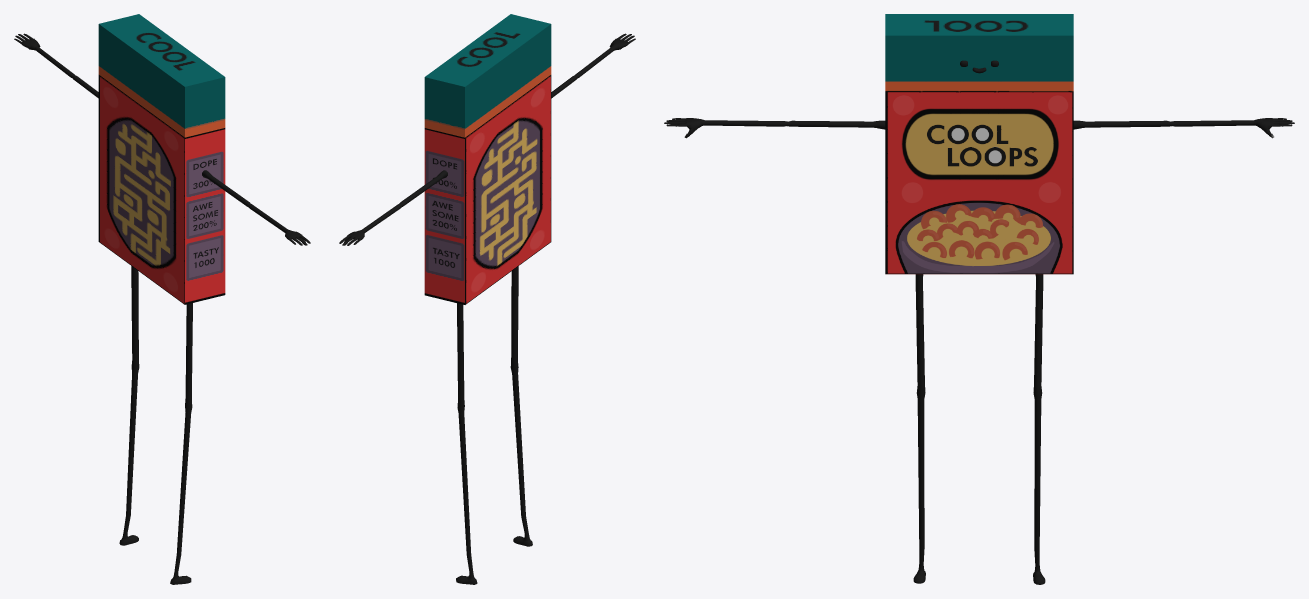
The model's file is Goldfish Bag Person.glb.
3 renders of one model, left to right at view 1: azimuth 30°, elevation 25°; view 2: azimuth 150°, elevation 25°; view 3: azimuth 270°, elevation 25°, orthographic. The views are drawn at different scales.
Visible parts, largest first — view 1: _100Avatars_106_GoldfishBagPerson; view 2: _100Avatars_106_GoldfishBagPerson; view 3: _100Avatars_106_GoldfishBagPerson.
Part boxes in pixels (bbox=[...]): _100Avatars_106_GoldfishBagPerson: bbox=[14, 14, 310, 584]; _100Avatars_106_GoldfishBagPerson: bbox=[339, 14, 635, 584]; _100Avatars_106_GoldfishBagPerson: bbox=[664, 14, 1294, 584].
Bounding box in the file's own units: 0.4138 × 4.64 × 4.76.
Materials: 1 (1 with a texture image).
